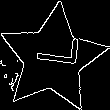L_W: (26, 40, 80, 77)
